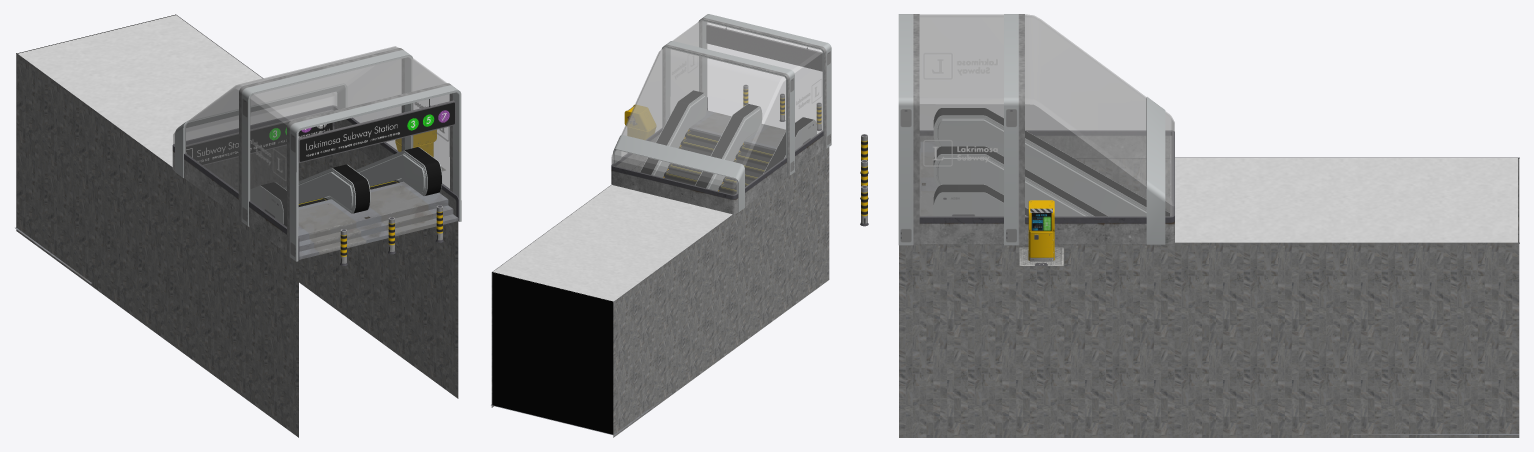
The picture shows the model from 3 angles, left to right: view 1: azimuth 30°, elevation 25°; view 2: azimuth 150°, elevation 25°; view 3: azimuth 270°, elevation 25°; orthographic projection. The views are drawn at different scales.
Visible parts, largest first — view 1: Wall, Floor, Glass, Opora_low, Steps_low, Fundament, Screens_low.001, Screens_low.003, HandlerLeft_low.001, Handler_Center_low, Opora_low.001, Stolb_low (+3 smaller); view 2: Wall, Glass, Black, Floor, Opora_low, Fundament, Opora_low.001, Auto_Steps_low, Screens_low.001, Steps_low, Handler_Center_low, HandlerLeft_low.001 (+6 smaller); view 3: Wall, Glass, Floor, Opora_low, Fundament, HandlerLeft_low.001, Handler_Center_low, Opora_low.001, HandlerLeft_low.002, rubber.003, Steps_low, rubber.001 (+3 smaller).
Part boxes in pixels (bbox=[...]): Wall: bbox=[16, 15, 458, 437]; Floor: bbox=[18, 15, 262, 166]; Glass: bbox=[173, 46, 449, 228]; Opora_low: bbox=[238, 48, 461, 261]; Steps_low: bbox=[298, 181, 458, 259]; Fundament: bbox=[172, 105, 459, 260]; Screens_low.001: bbox=[298, 100, 455, 162]; Screens_low.003: bbox=[186, 109, 333, 165]; HandlerLeft_low.001: bbox=[275, 150, 427, 196]; Handler_Center_low: bbox=[284, 164, 370, 213]; Opora_low.001: bbox=[175, 83, 346, 177]; Stolb_low: bbox=[340, 205, 443, 265]; Wall: bbox=[491, 147, 829, 437]; Glass: bbox=[611, 20, 823, 195]; Black: bbox=[492, 272, 613, 434]; Floor: bbox=[493, 185, 732, 301]; Opora_low: bbox=[661, 14, 831, 177]; Fundament: bbox=[611, 97, 823, 214]; Opora_low.001: bbox=[613, 135, 744, 212]; Auto_Steps_low: bbox=[664, 130, 774, 194]; Screens_low.001: bbox=[706, 24, 822, 71]; Steps_low: bbox=[689, 110, 785, 150]; Handler_Center_low: bbox=[695, 104, 762, 190]; HandlerLeft_low.001: bbox=[651, 93, 802, 177]; Wall: bbox=[899, 158, 1519, 437]; Glass: bbox=[919, 14, 1174, 217]; Floor: bbox=[1175, 158, 1517, 242]; Opora_low: bbox=[898, 14, 1024, 245]; Fundament: bbox=[919, 130, 1174, 244]; HandlerLeft_low.001: bbox=[933, 115, 1146, 216]; Handler_Center_low: bbox=[933, 146, 1106, 216]; Opora_low.001: bbox=[1146, 97, 1165, 244]; HandlerLeft_low.002: bbox=[933, 107, 1114, 216]; rubber.003: bbox=[933, 108, 1169, 216]; Steps_low: bbox=[919, 141, 937, 216]; rubber.001: bbox=[933, 146, 1107, 216].
Bounding box in the file's own units: 5.8 × 8.51 × 14.7.
Materials: 3 (3 with a texture image).
